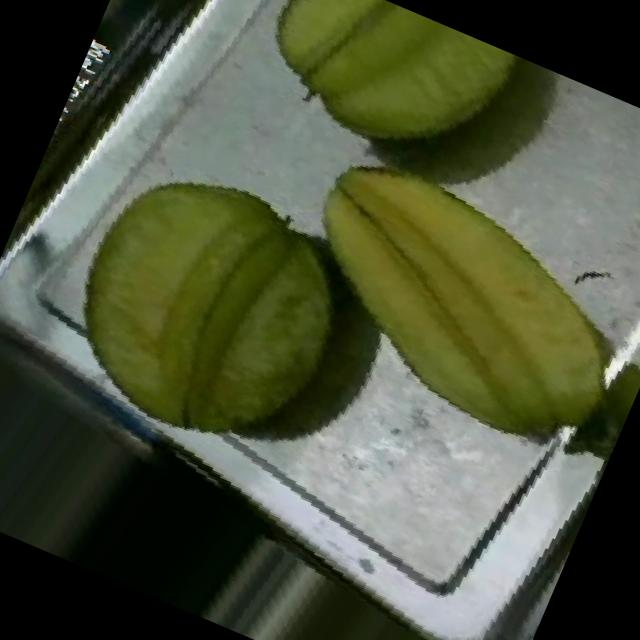fruit: (0, 88, 428, 516), (233, 97, 640, 502), (204, 0, 552, 229)
